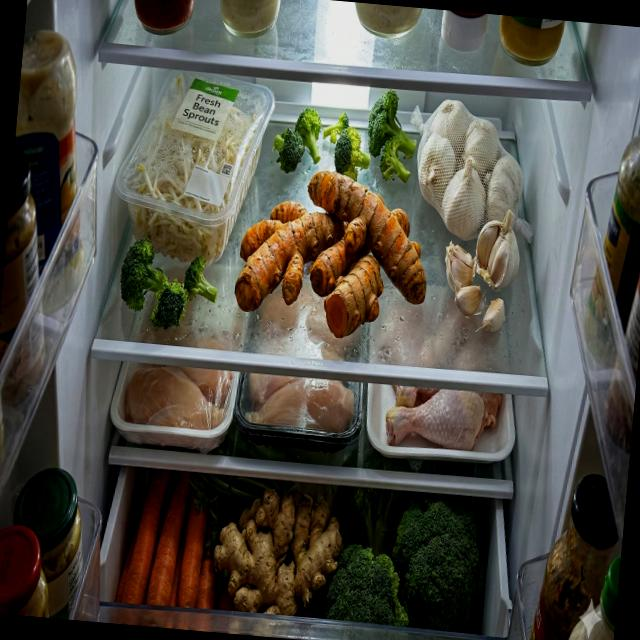bean_sprouts: (129, 76, 257, 266)
brocolli: (324, 485, 491, 634), (116, 233, 220, 333), (364, 88, 421, 182), (319, 108, 374, 184), (270, 104, 324, 176)
carrot: (115, 464, 225, 611)
chicken: (383, 382, 502, 454), (123, 362, 234, 432), (244, 372, 358, 434)
garlic: (402, 97, 532, 335)
ginger: (209, 484, 347, 622)
turmeric: (231, 162, 436, 346)
